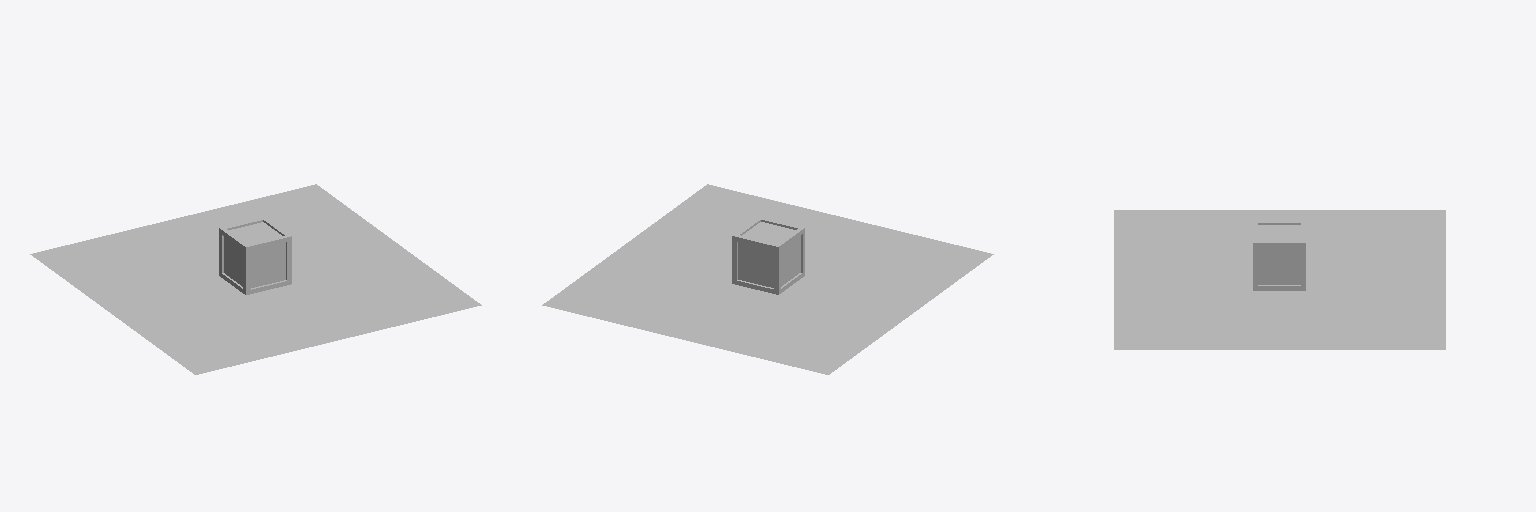
Rendered from crate.obj.
3 renders of one model, left to right at view 1: azimuth 30°, elevation 25°; view 2: azimuth 150°, elevation 25°; view 3: azimuth 270°, elevation 25°, orthographic.
Parts seen in each view (by area): view 1: Plane, Cube; view 2: Plane, Cube; view 3: Plane, Cube.
Boxes of the visible parts, <box> form: Plane: <box>30,184,481,374</box>; Cube: <box>219,217,291,294</box>; Plane: <box>542,184,993,374</box>; Cube: <box>732,217,804,294</box>; Plane: <box>1114,210,1445,349</box>; Cube: <box>1253,220,1305,290</box>.
Size of the model in its own units: 12.41 by 2 by 12.41.